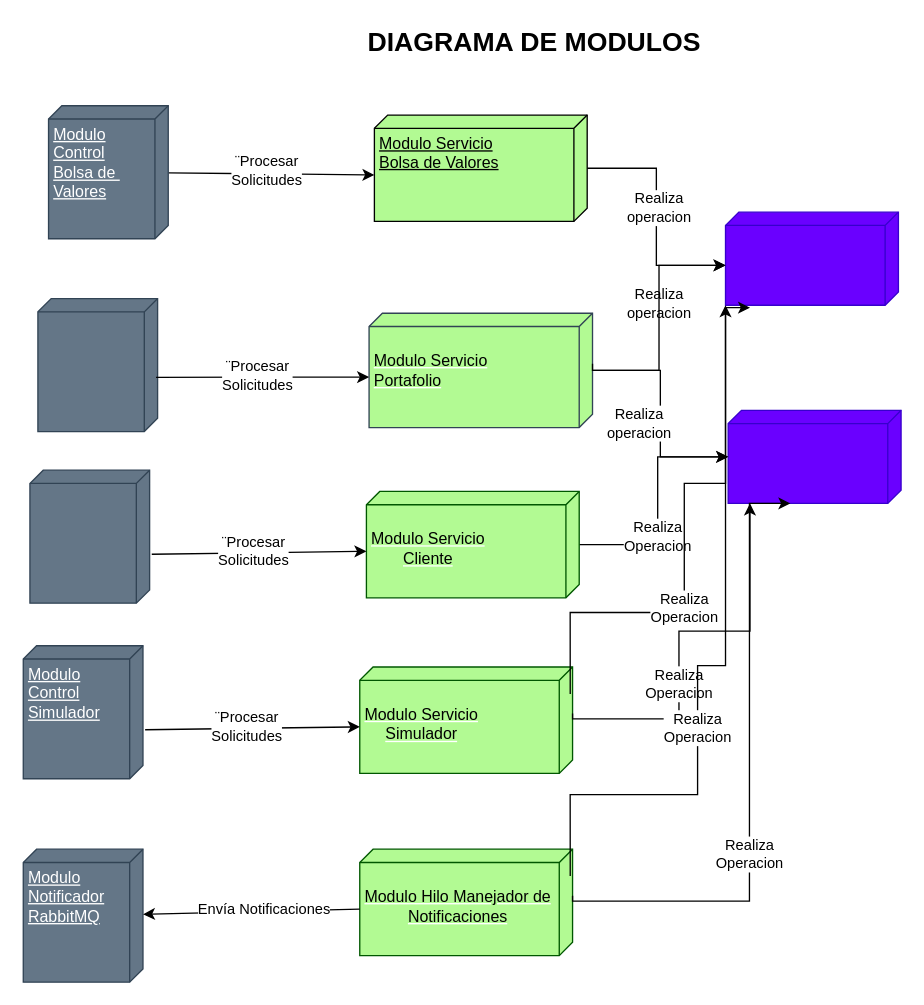
Some shapes in this 924 by 1005 pixel diagram are drawn without their labels. Here are the shapes that lost their labels. From the top down, the centre of each, then its label:
At point 811,258: "Base de Datos Bolsa De Valores".
At point 97,364: "Modulo Control Portafolio".
At point 814,456: "Base de Datos Clientes".
At point 89,536: "Modulo Control Cliente".
